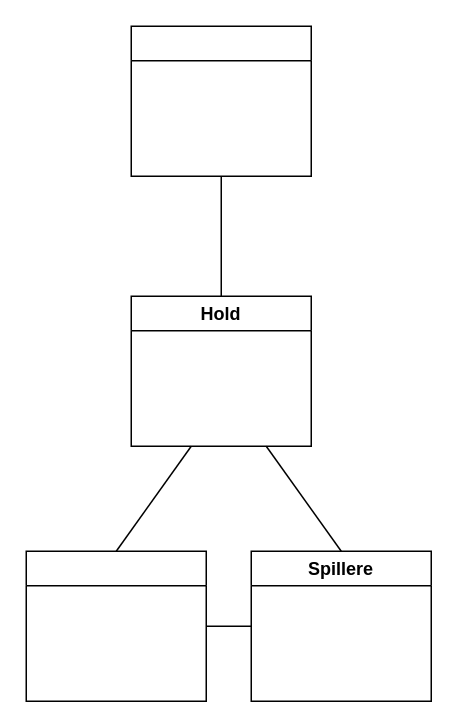
Some shapes in this 458 by 728 pixel diagram are drawn without their labels. Each missing label, with the centre of its shape:
Bruger: pixel 220 100
Footballmatch: pixel 115 625
